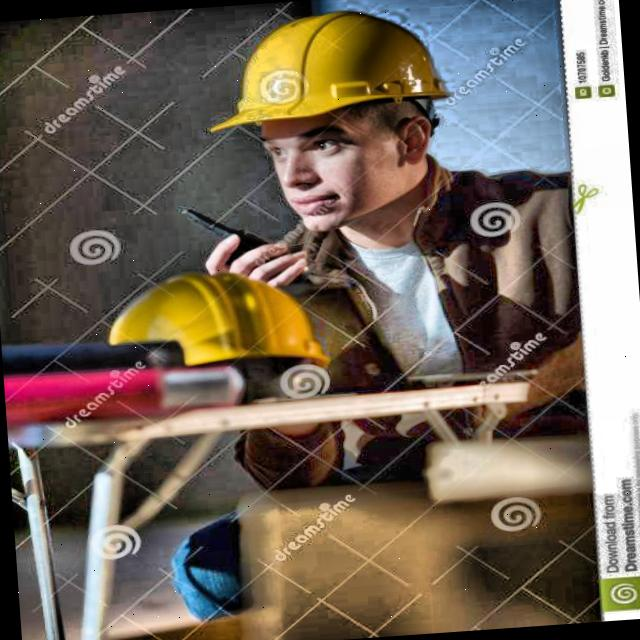helmet: (195, 0, 476, 246)
